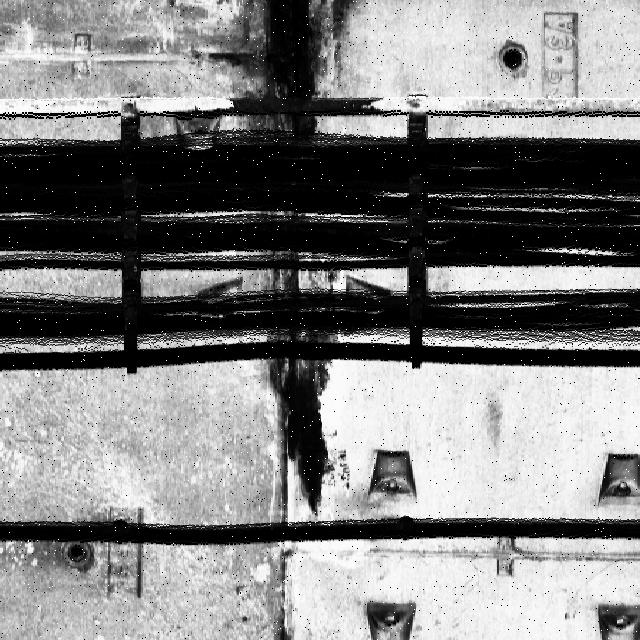leakage: (250, 269, 349, 518), (209, 1, 358, 142)
